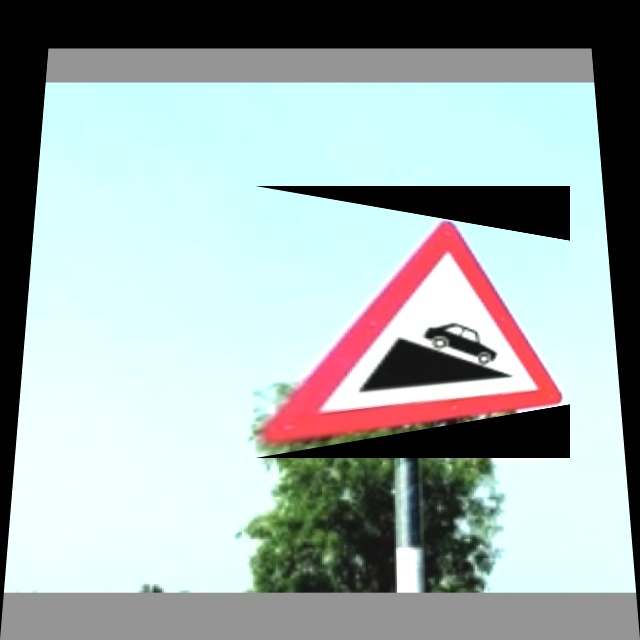Steep_Descent: (255, 186, 570, 458)
